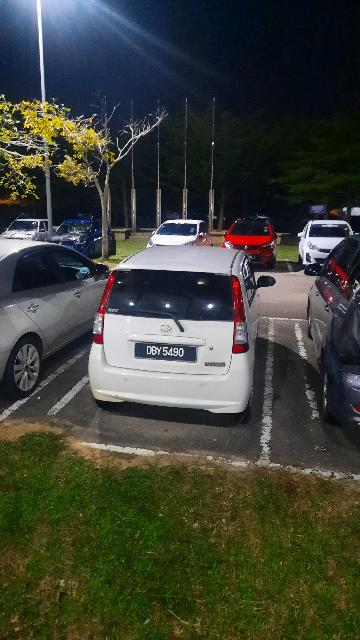License_Plate: (131, 340, 200, 364)
car: (91, 243, 278, 421), (2, 234, 117, 394), (297, 223, 360, 436)
